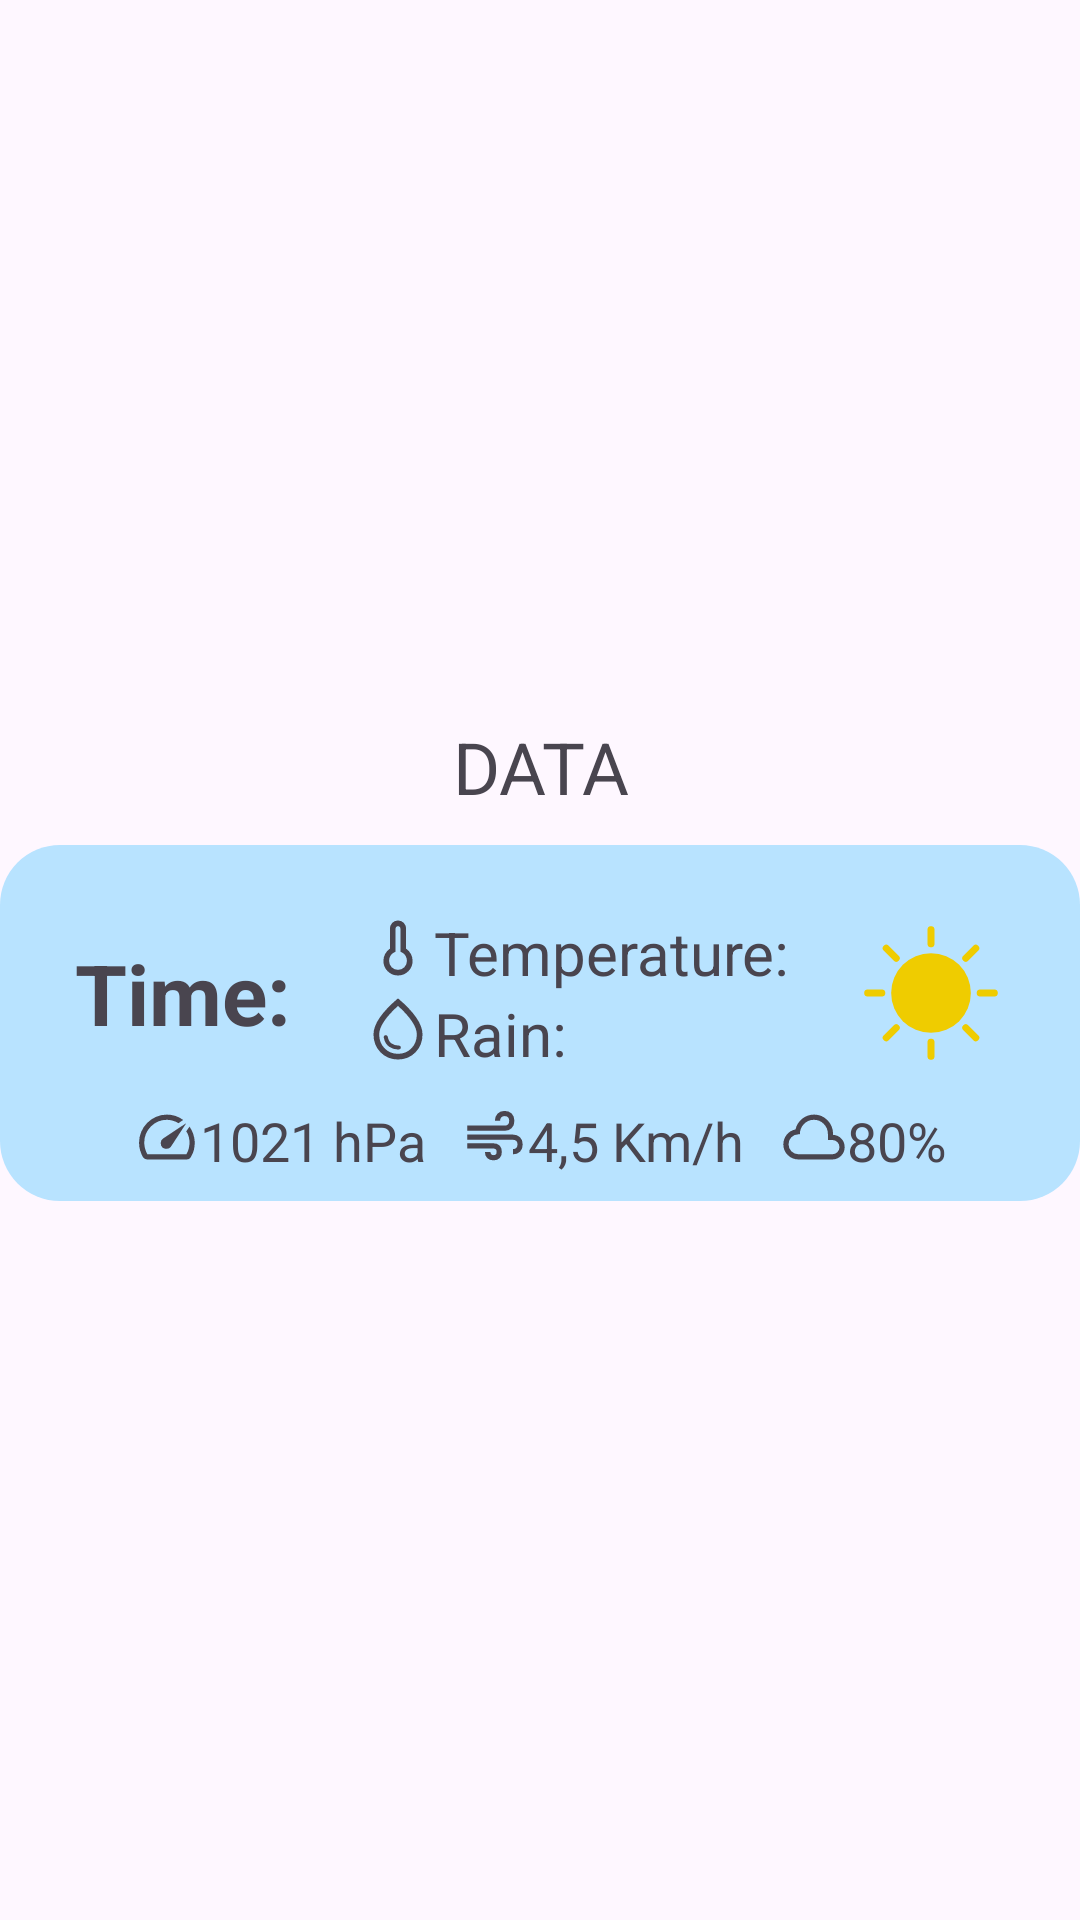

Where to tap for icons on this 1080px x 1920px app screen, as (x=x, y=y):
cloud percentage: (x=814, y=1137)
pressure: (x=167, y=1137)
sun: (x=931, y=993)
water: (x=398, y=1029)
wind: (x=495, y=1136)
